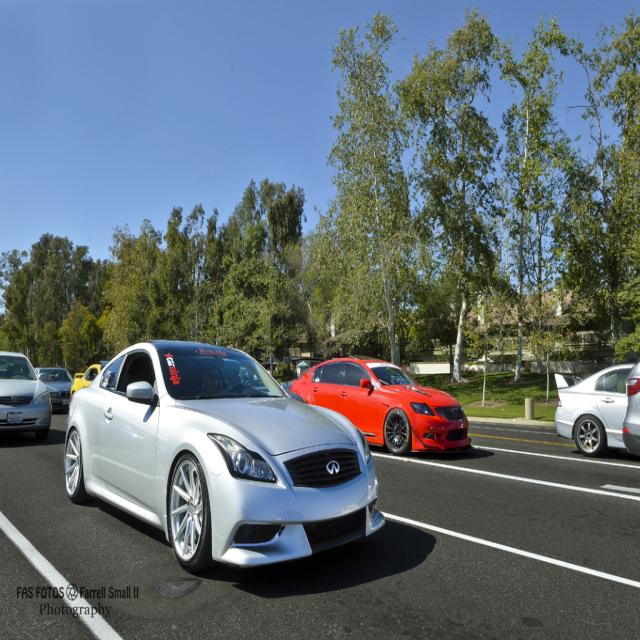car: (62, 337, 381, 567)
